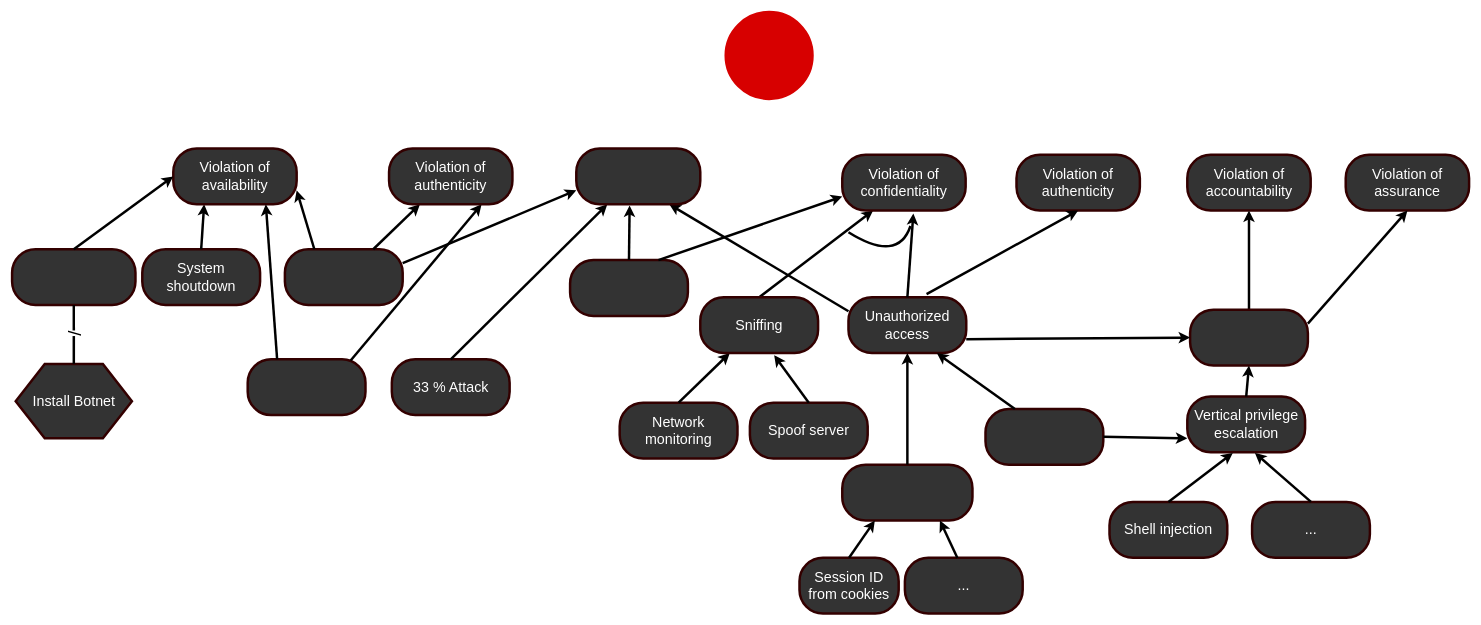
This 1481x625 diagram has some shape labels left out. The shapes that lost their labels are listed below. From the top down, each one's box as (x1, y1, x2, y2) in pixels, then its label:
(724, 11, 813, 100): Outsider Attacker
(575, 147, 701, 205): Violation of integrity
(11, 248, 136, 306): DDoS
(283, 248, 404, 306): Malware
(569, 259, 689, 317): SQL injection
(1189, 308, 1309, 366): Spoofing admin account
(246, 358, 366, 416): Ransomware
(984, 407, 1104, 466): Phishing
(841, 463, 973, 521): Horizontal privilege escalation
